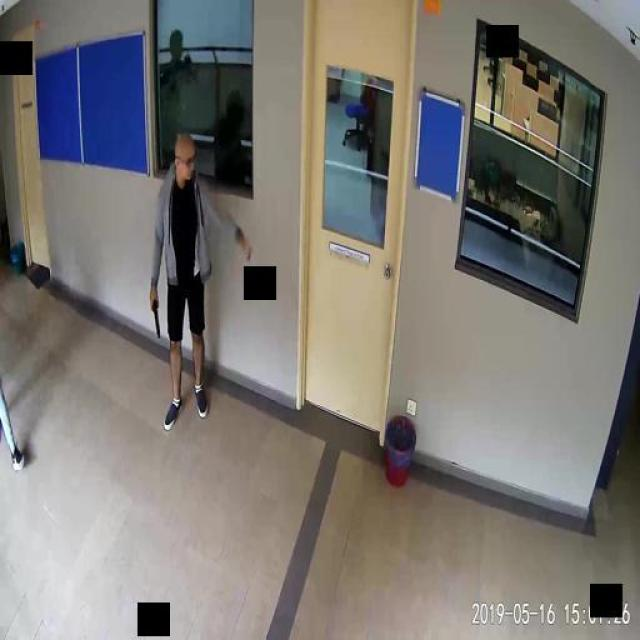gun: (148, 291, 158, 335)
